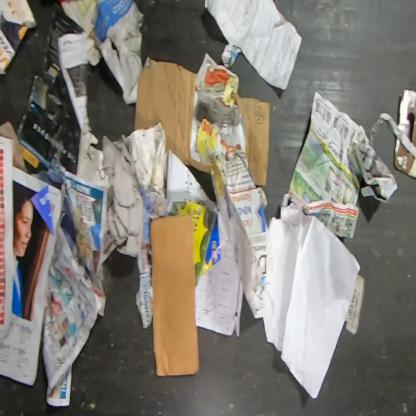cardboard: (133, 57, 271, 187), (149, 213, 200, 377), (397, 88, 415, 150), (394, 136, 415, 182)
